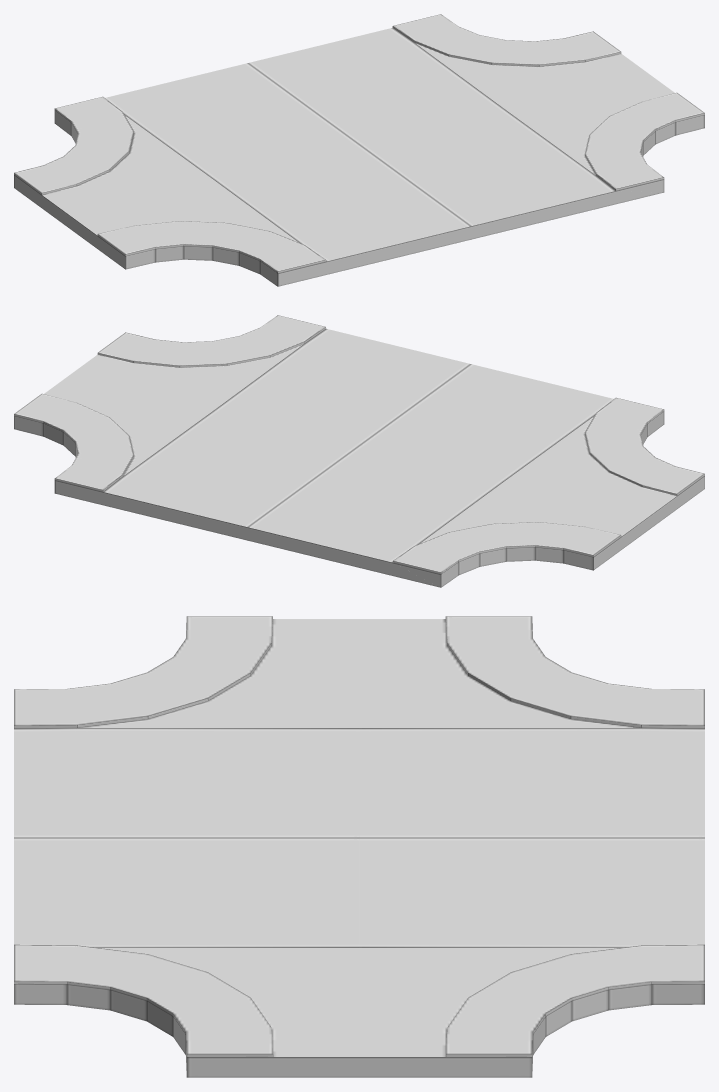
Rendered from Road-15.fbx.
3 views of the same model, one above another, from view 1: azimuth 30°, elevation 25°; view 2: azimuth 150°, elevation 25°; view 3: azimuth 270°, elevation 25° (orthographic). The views are drawn at different scales.
Parts seen in each view (by area): view 1: Road_15; view 2: Road_15; view 3: Road_15.
Part boxes in pixels (x1=…): Road_15: x1=14, y1=14, x2=704, y2=286; Road_15: x1=14, y1=315, x2=704, y2=587; Road_15: x1=14, y1=616, x2=704, y2=1077.
Bounding box in the file's own units: 12 × 0.3 × 8.
